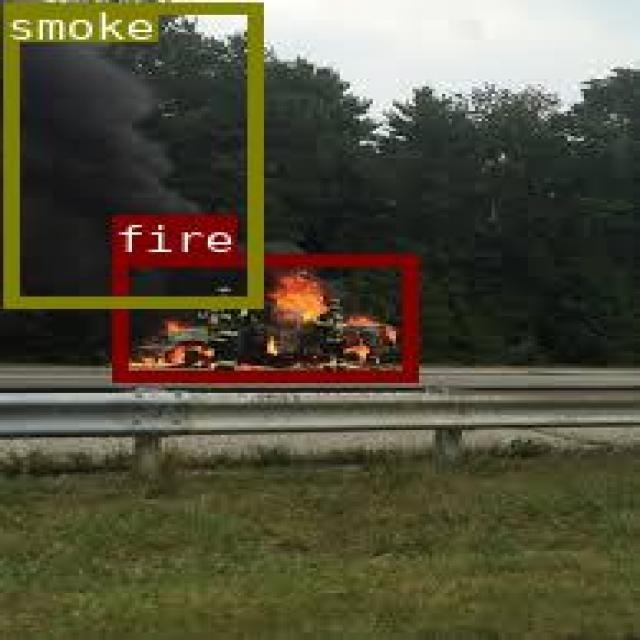fire: (111, 254, 413, 379)
smoke: (1, 1, 261, 304)
